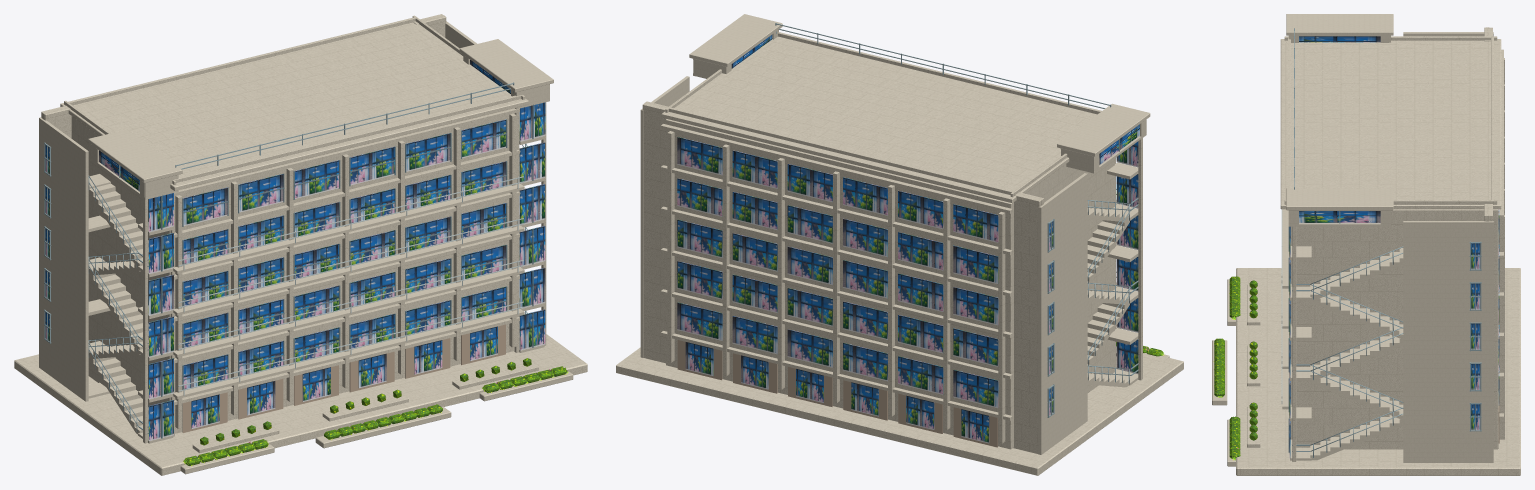
File: B12_teaching_rear_v2.glb
3 views of the same model, side by side, from view 1: azimuth 30°, elevation 25°; view 2: azimuth 150°, elevation 25°; view 3: azimuth 270°, elevation 25° (orthographic). The views are drawn at different scales.
Parts seen in each view (by area): view 1: GAME_V2_Pixel_limestone, GAME_V2_Glass_reflection, GAME_V2_Planter_stone, GAME_Window frames, GAME_V2_Silver_rail, GAME_V2_Tower_frame, GAME_Entry cladding, GAME_V2_Dense_hedge; view 2: GAME_V2_Pixel_limestone, GAME_V2_Glass_reflection, GAME_V2_Tower_frame, GAME_Entry cladding; view 3: GAME_V2_Pixel_limestone, GAME_V2_Glass_reflection, GAME_V2_Tower_frame, GAME_V2_Dense_hedge, GAME_V2_Planter_stone, GAME_Window frames, GAME_V2_Silver_rail.
Boxes of the visible parts, bbox=[...] form: GAME_V2_Pixel_limestone: bbox=[14, 14, 587, 475]; GAME_V2_Glass_reflection: bbox=[45, 60, 545, 441]; GAME_V2_Planter_stone: bbox=[173, 183, 573, 474]; GAME_Window frames: bbox=[161, 104, 533, 438]; GAME_V2_Silver_rail: bbox=[178, 176, 523, 395]; GAME_V2_Tower_frame: bbox=[44, 82, 527, 433]; GAME_Entry cladding: bbox=[182, 324, 505, 432]; GAME_V2_Dense_hedge: bbox=[183, 358, 567, 465]; GAME_V2_Pixel_limestone: bbox=[616, 14, 1183, 475]; GAME_V2_Glass_reflection: bbox=[677, 35, 1139, 443]; GAME_V2_Tower_frame: bbox=[775, 23, 1138, 417]; GAME_Entry cladding: bbox=[677, 340, 997, 447]; GAME_V2_Pixel_limestone: bbox=[1236, 14, 1520, 475]; GAME_V2_Glass_reflection: bbox=[1289, 36, 1499, 458]; GAME_V2_Tower_frame: bbox=[1292, 28, 1481, 457]; GAME_V2_Dense_hedge: bbox=[1214, 276, 1257, 458]; GAME_V2_Planter_stone: bbox=[1212, 209, 1291, 466]; GAME_Window frames: bbox=[1288, 226, 1289, 452]; GAME_V2_Silver_rail: bbox=[1281, 209, 1282, 403].
Bounding box in the file's own units: 23 × 14.34 × 14.97.
Materials: 10 (6 with a texture image).
